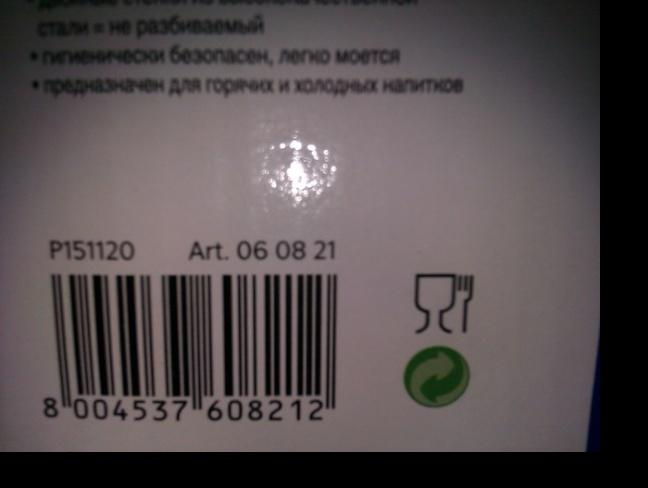Barcode: (32, 268, 348, 428)
